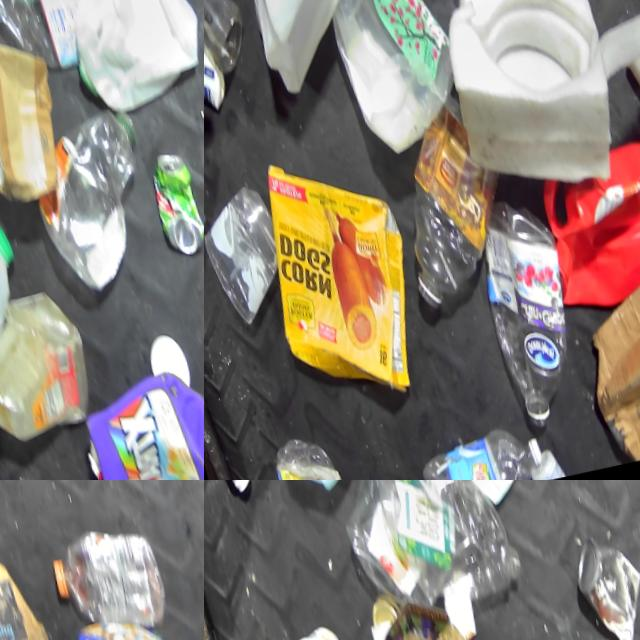can: (550, 527, 640, 640), (135, 148, 204, 266)
milk_jug: (217, 0, 414, 96), (48, 0, 204, 119), (0, 197, 42, 408)
non_white_jug: (512, 120, 640, 315), (65, 362, 204, 480)
plastic_bottle: (360, 105, 512, 322), (458, 197, 585, 421), (318, 480, 523, 618), (24, 111, 162, 283), (33, 528, 157, 638), (396, 420, 535, 480), (243, 427, 342, 480)
